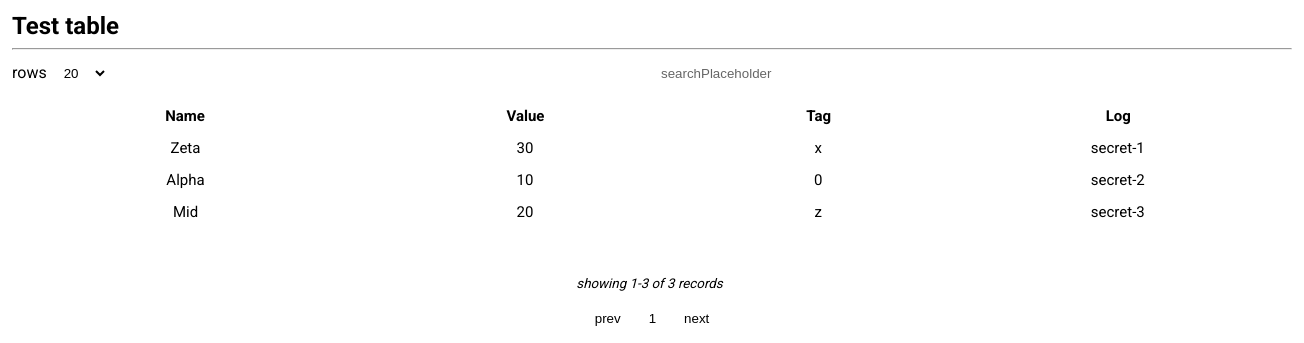
it: Table sorting › sorts ascending on first click and toggles to descending on a second click of the same column
Click the column heading "Name" at (185, 116), box top-left (12, 99), bottom-right (358, 132)
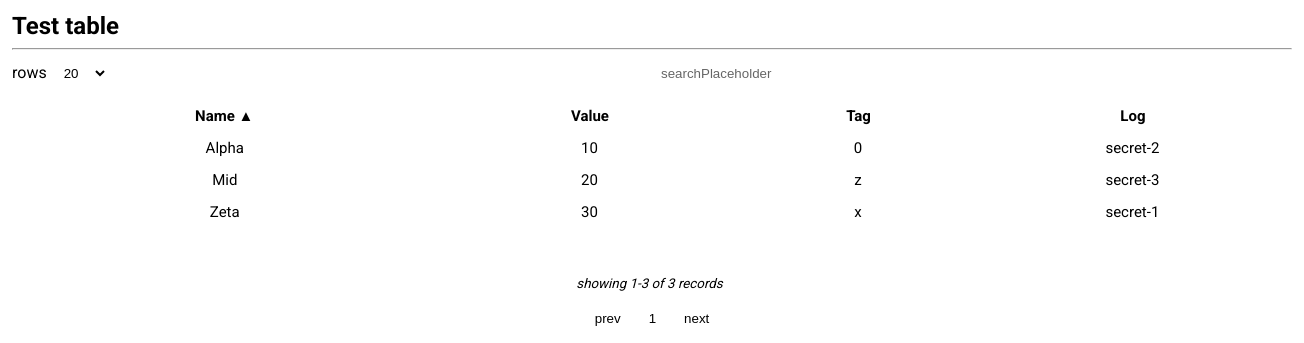
Expected: the column heading "Name ▲" is shown
Click the column heading "Name ▲" at (224, 116), box top-left (12, 99), bottom-right (436, 132)
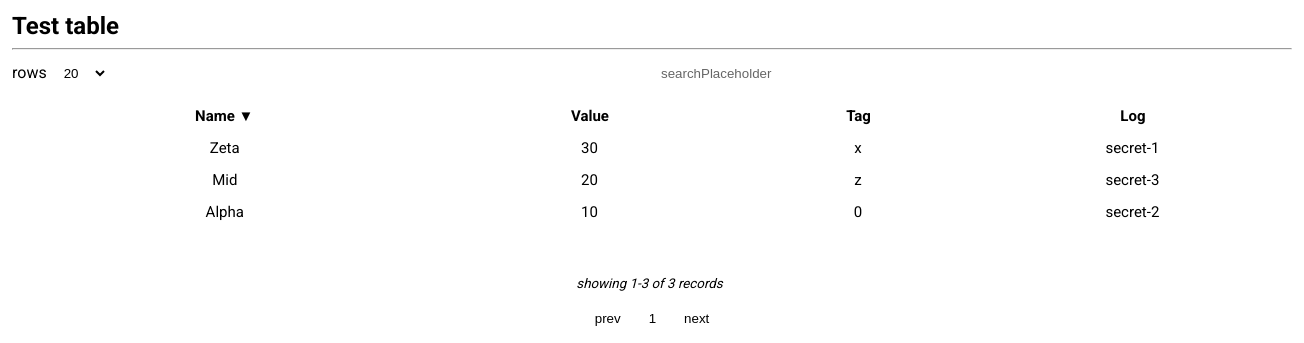
Expected: the column heading "Name ▼" is shown, top-left (12, 99), bottom-right (436, 132)
